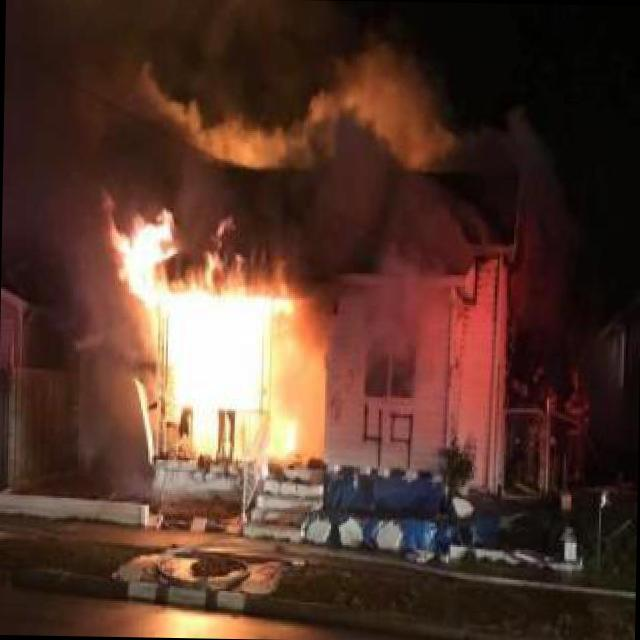Fire: (90, 186, 308, 471)
